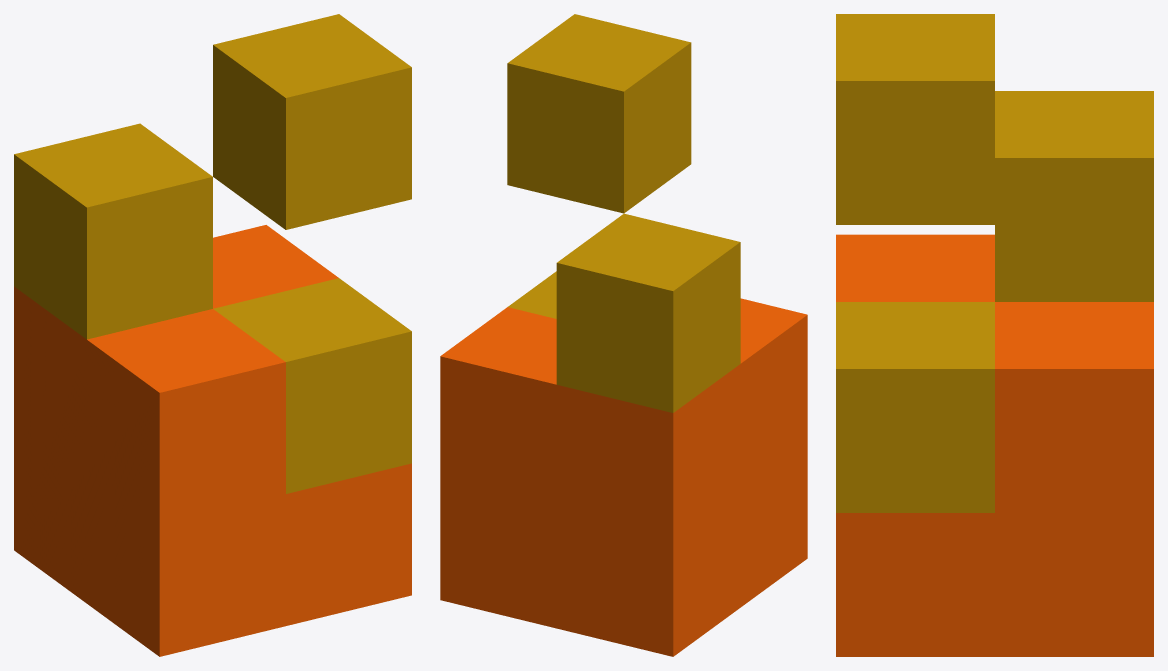
File: SmallFlame.obj
The picture shows the model from 3 angles, left to right: view 1: azimuth 30°, elevation 25°; view 2: azimuth 150°, elevation 25°; view 3: azimuth 270°, elevation 25°; orthographic projection. The views are drawn at different scales.
Bounding box in the file's own units: 0.2 × 0.4 × 0.2.
Materials: 1 (1 with a texture image).
